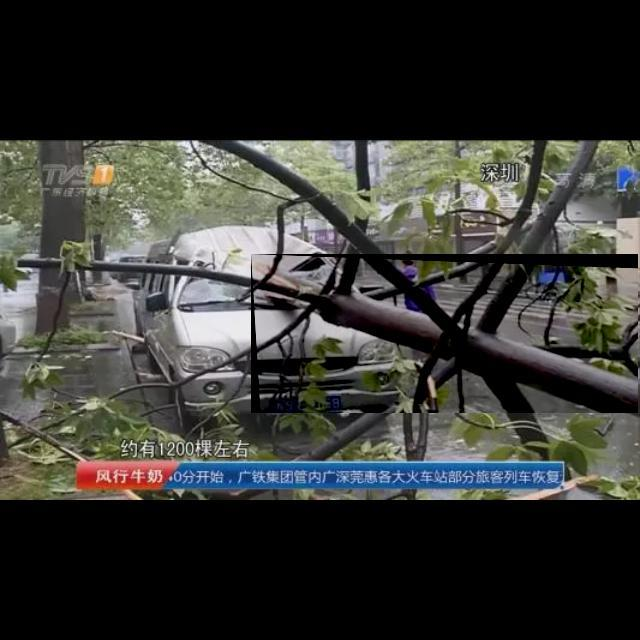fallen_tree: (251, 254, 639, 414)
